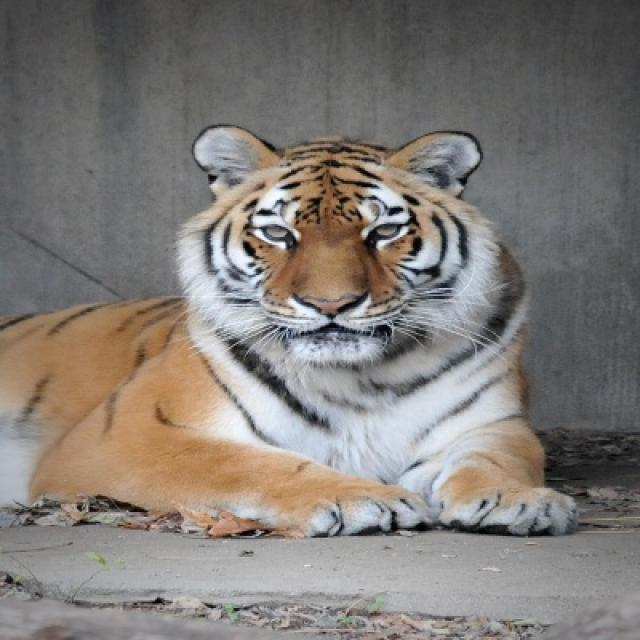Tiger: (0, 121, 578, 539)
